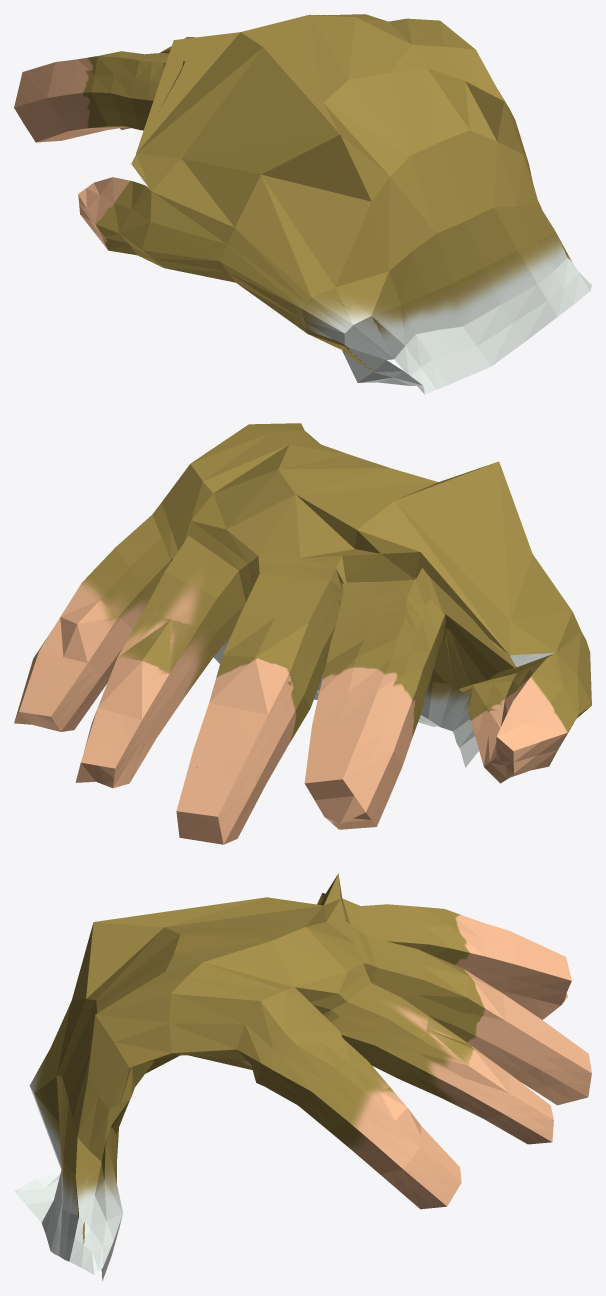
The model's file is flexion0054.obj.
The picture shows the model from 3 angles, top to bottom: view 1: azimuth 30°, elevation 25°; view 2: azimuth 150°, elevation 25°; view 3: azimuth 270°, elevation 25°; orthographic projection. The views are drawn at different scales.
Parts seen in each view (by area): view 1: Hand; view 2: Hand; view 3: Hand.
Boxes of the visible parts, bbox=[...] form: Hand: bbox=[14, 14, 591, 394]; Hand: bbox=[14, 423, 591, 844]; Hand: bbox=[14, 873, 591, 1280].
Bounding box in the file's own units: 3.27 × 2.24 × 3.85.
